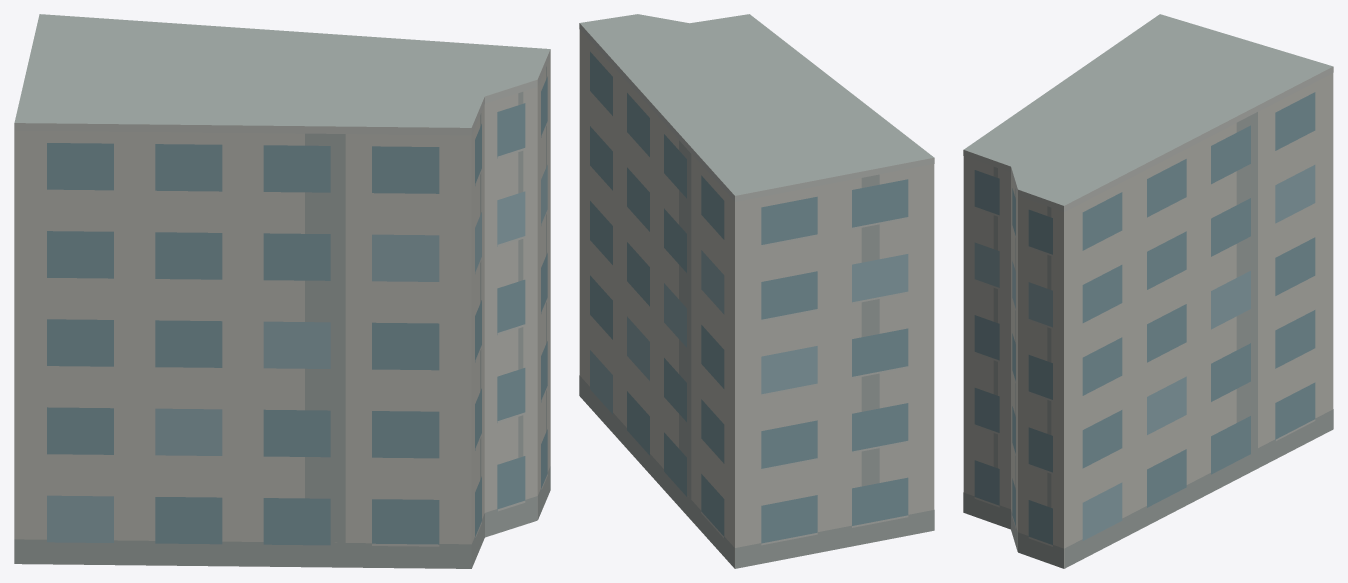
The model's file is survey-upis-32525919.glb.
3 renders of one model, left to right at view 1: azimuth 30°, elevation 25°; view 2: azimuth 150°, elevation 25°; view 3: azimuth 270°, elevation 25°, orthographic. The views are drawn at different scales.
Parts seen in each view (by area): view 1: survey-upis-32525919.tmp; view 2: survey-upis-32525919.tmp; view 3: survey-upis-32525919.tmp.
Part boxes in pixels (bbox=[...]): survey-upis-32525919.tmp: bbox=[14, 14, 550, 568]; survey-upis-32525919.tmp: bbox=[579, 14, 934, 568]; survey-upis-32525919.tmp: bbox=[963, 14, 1333, 568].
Bounding box in the file's own units: 16.34 × 14.4 × 13.31.
